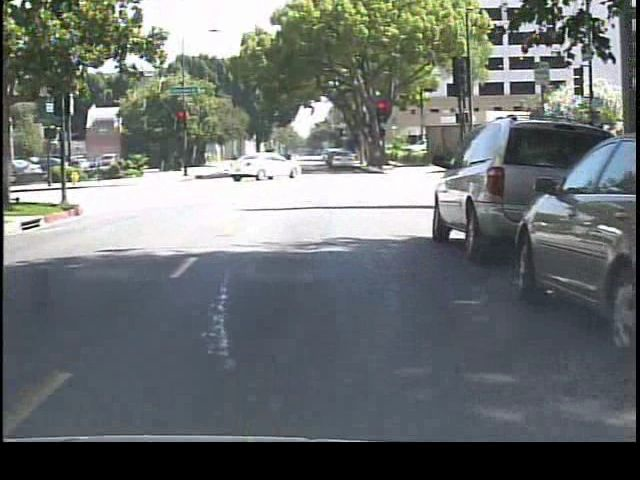person: (281, 141, 297, 175)
